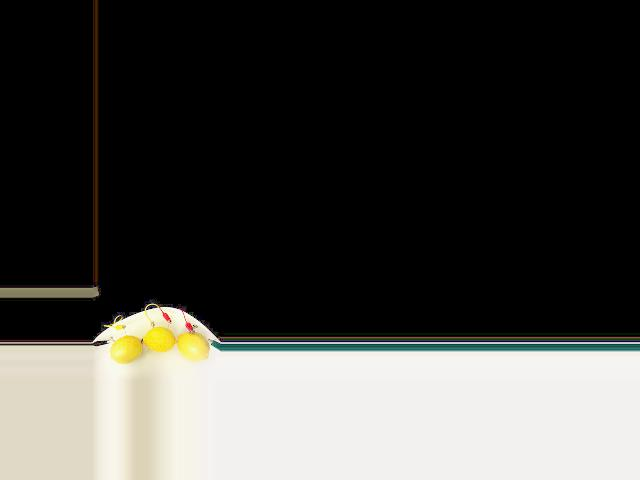lemon: (177, 326, 209, 358)
